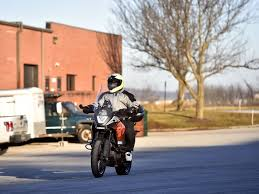helmet: (105, 73, 125, 93)
